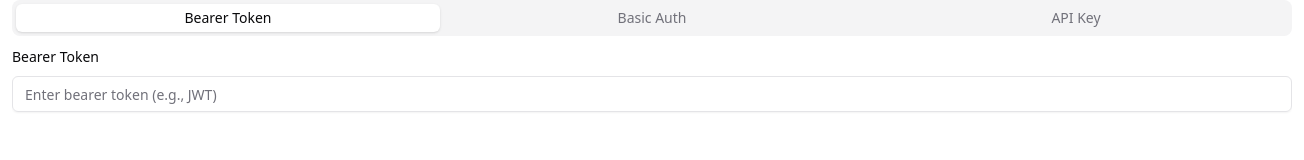
Test: AuthTab › should render API Key panel when selected
Click the tab "API Key": {"x": 1076, "y": 18} top-left (864, 4), bottom-right (1288, 32)
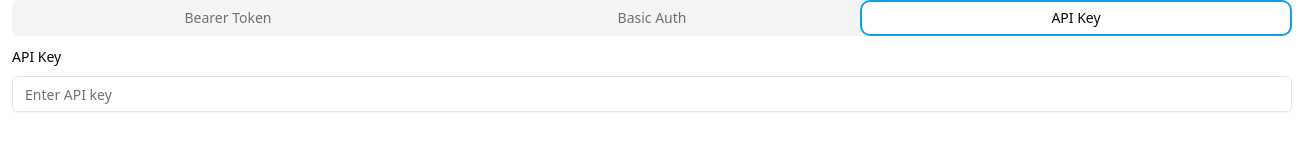
Expected: the field with placeholder "Enter API key" is shown, top-left (12, 76), bottom-right (1292, 112)
